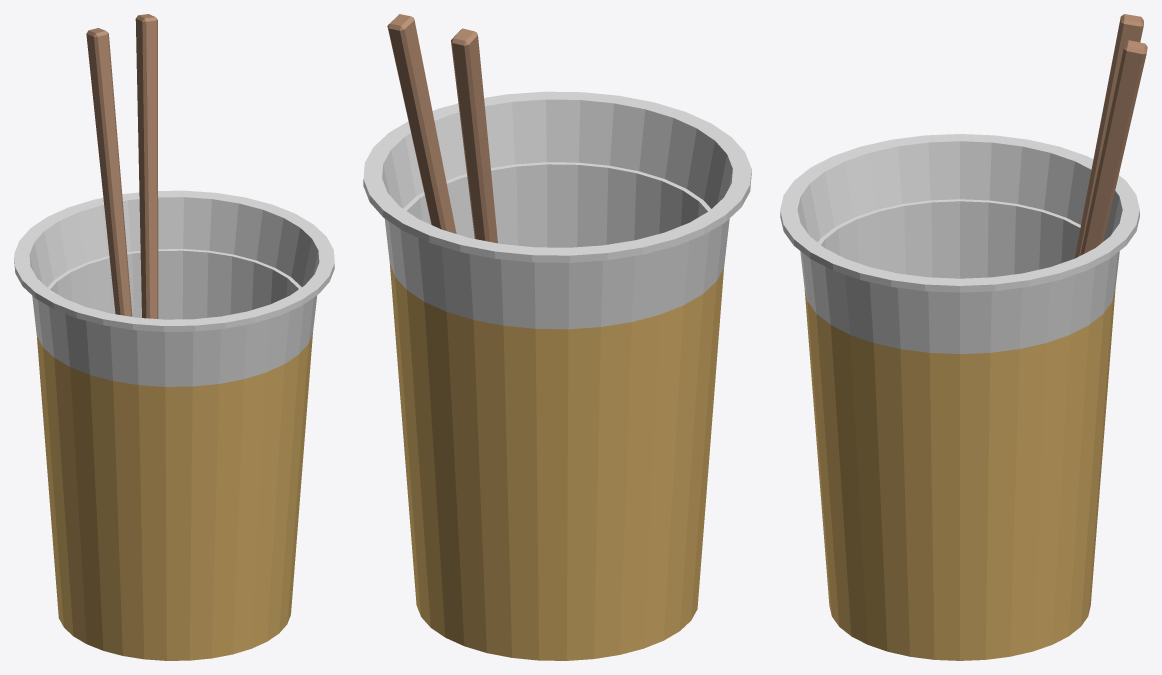
File: PotNoodle.fbx
3 views of the same model, side by side, from view 1: azimuth 30°, elevation 25°; view 2: azimuth 150°, elevation 25°; view 3: azimuth 270°, elevation 25° (orthographic). The views are drawn at different scales.
Parts seen in each view (by area): view 1: Cylinder, Cube.001, Cube; view 2: Cylinder, Cube.001, Cube; view 3: Cylinder, Cube.001, Cube.
Boxes of the visible parts, x1,y1,x2,y2 form: Cylinder: (14, 190, 334, 660); Cube.001: (135, 14, 158, 318); Cube: (86, 28, 132, 316); Cylinder: (363, 91, 751, 660); Cube.001: (387, 14, 456, 233); Cube: (451, 28, 497, 243); Cylinder: (780, 134, 1139, 660); Cube.001: (1080, 40, 1147, 255); Cube: (1074, 14, 1143, 258).
Size of the model in its own units: 317 by 573 by 323.
